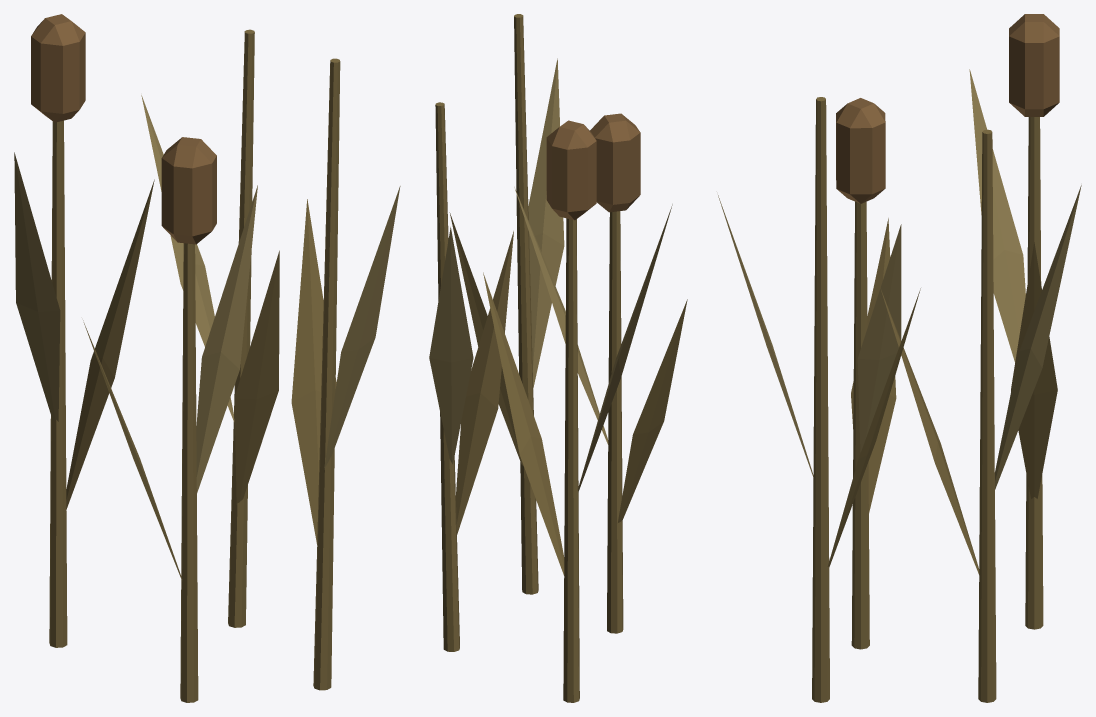
File: reeds_2_autumn.glb
The picture shows the model from 3 angles, left to right: view 1: azimuth 30°, elevation 25°; view 2: azimuth 150°, elevation 25°; view 3: azimuth 270°, elevation 25°; orthographic projection. The views are drawn at different scales.
Visible parts, largest first — view 1: reeds_2_autumn; view 2: reeds_2_autumn; view 3: reeds_2_autumn.
Boxes of the visible parts, x1,y1,x2,y2 form: reeds_2_autumn: (14, 14, 400, 702); reeds_2_autumn: (429, 14, 687, 702); reeds_2_autumn: (718, 14, 1081, 702).
Size of the model in its own units: 0.8337 by 1.86 by 1.01.
